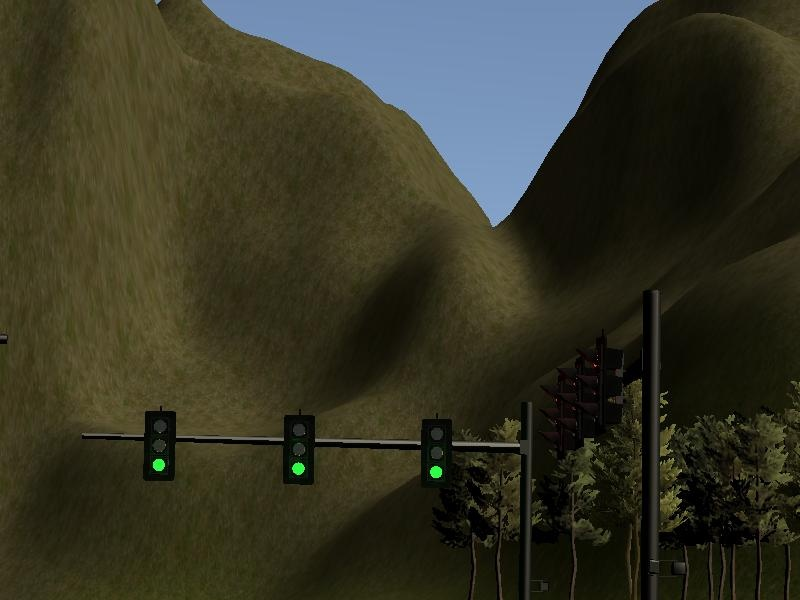traffic_light_green: (79, 404, 483, 490)
